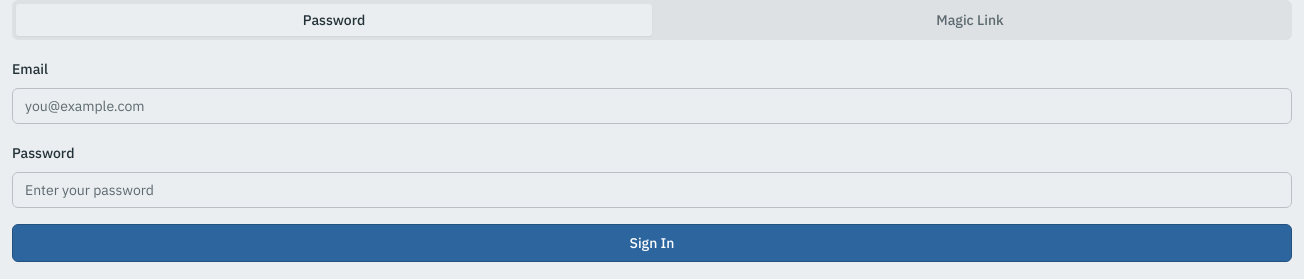
Test: LoginForm › tab switching › should switch to magic link tab
The width and height of the screenshot is (1304, 279).
What coordinates should you click on to do the following:
click the tab "Magic Link"
I would click on:
 (970, 20)
Its box is [652,4,1288,36].
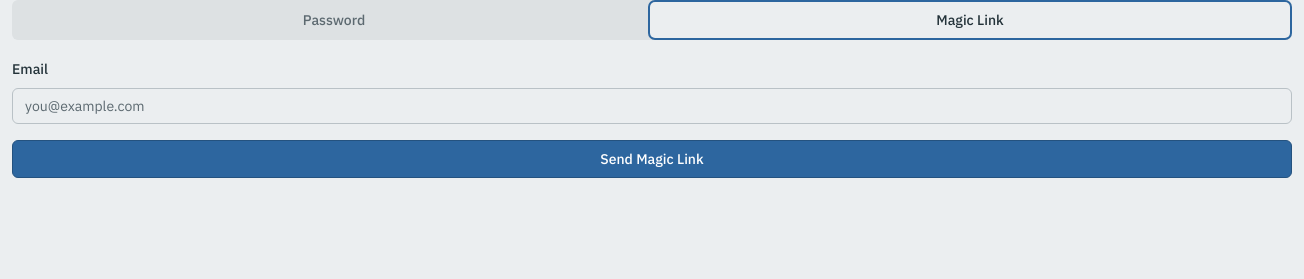
Check: the button "Send Magic Link" is shown, box [12,140,1292,178]
